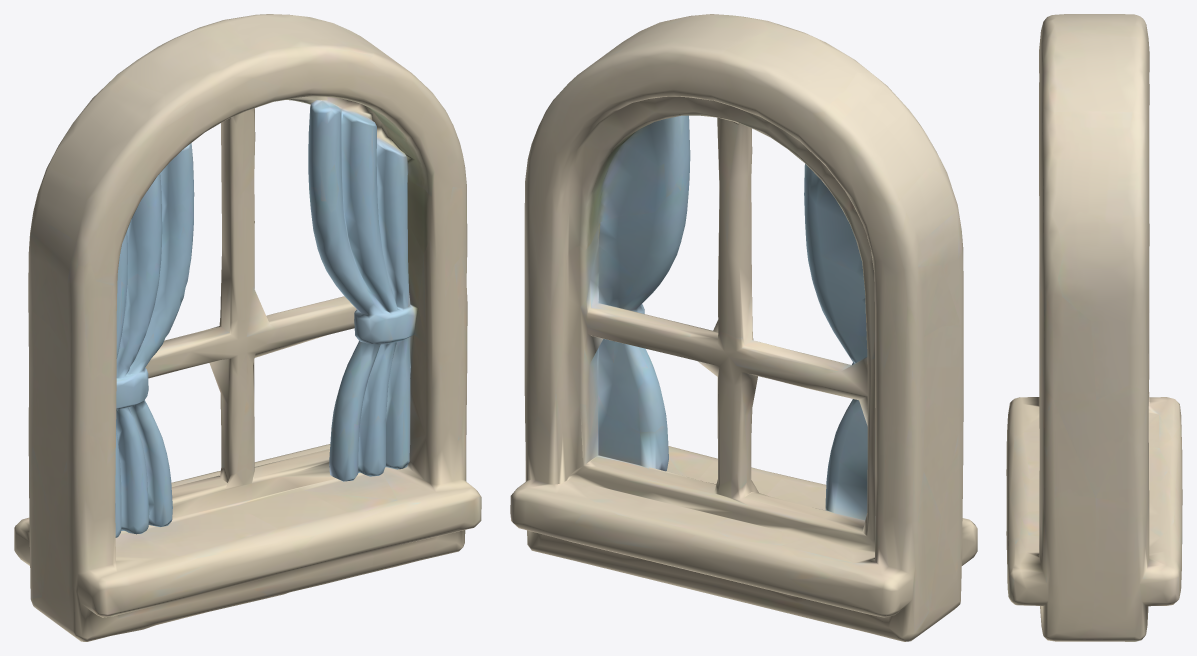
The model's file is living_window_curtains.glb.
The picture shows the model from 3 angles, left to right: view 1: azimuth 30°, elevation 25°; view 2: azimuth 150°, elevation 25°; view 3: azimuth 270°, elevation 25°; orthographic projection. The views are drawn at different scales.
Parts seen in each view (by area): view 1: tripo_node_f79a3f4a-5bee-4c69-b5bc-bed468fd7a1e; view 2: tripo_node_f79a3f4a-5bee-4c69-b5bc-bed468fd7a1e; view 3: tripo_node_f79a3f4a-5bee-4c69-b5bc-bed468fd7a1e.
Part boxes in pixels (<box>): tripo_node_f79a3f4a-5bee-4c69-b5bc-bed468fd7a1e: <box>14,14,481,641</box>; tripo_node_f79a3f4a-5bee-4c69-b5bc-bed468fd7a1e: <box>510,14,977,641</box>; tripo_node_f79a3f4a-5bee-4c69-b5bc-bed468fd7a1e: <box>1006,14,1182,641</box>.
Bounding box in the file's own units: 1.21 × 1.6 × 0.4919.
Materials: 1 (1 with a texture image).
